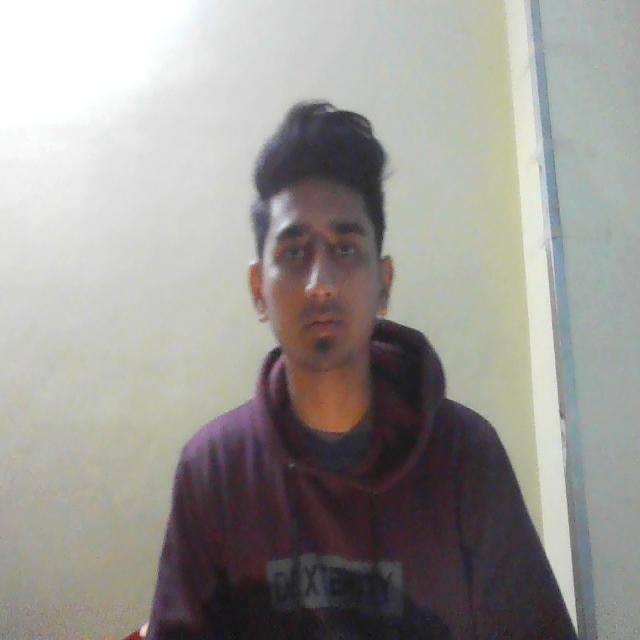real: (251, 120, 402, 405)
